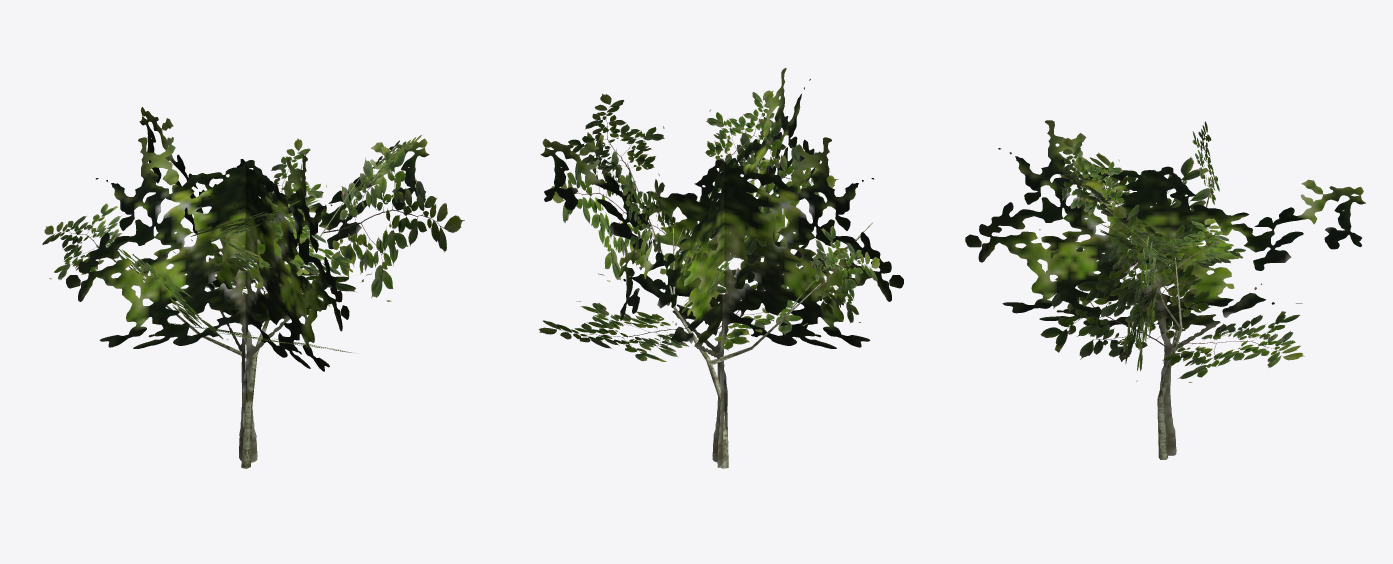
Rendered from Tree-Beech6A.fbx.
3 views of the same model, side by side, from view 1: azimuth 30°, elevation 25°; view 2: azimuth 150°, elevation 25°; view 3: azimuth 270°, elevation 25° (orthographic). The views are drawn at different scales.
Parts seen in each view (by area): view 1: Billboard-BeechA, Tree-Beech6A_LOD0; view 2: Billboard-BeechA, Tree-Beech6A_LOD0; view 3: Billboard-BeechA, Tree-Beech6A_LOD0.
Boxes of the visible parts, x1,y1,x2,y2 form: Billboard-BeechA: [66, 107, 429, 462]; Tree-Beech6A_LOD0: [42, 135, 464, 468]; Billboard-BeechA: [540, 68, 903, 467]; Tree-Beech6A_LOD0: [539, 90, 879, 468]; Billboard-BeechA: [965, 120, 1365, 455]; Tree-Beech6A_LOD0: [1040, 121, 1304, 459].
Size of what is drawn, in the model's own units: 929 by 820 by 905.
